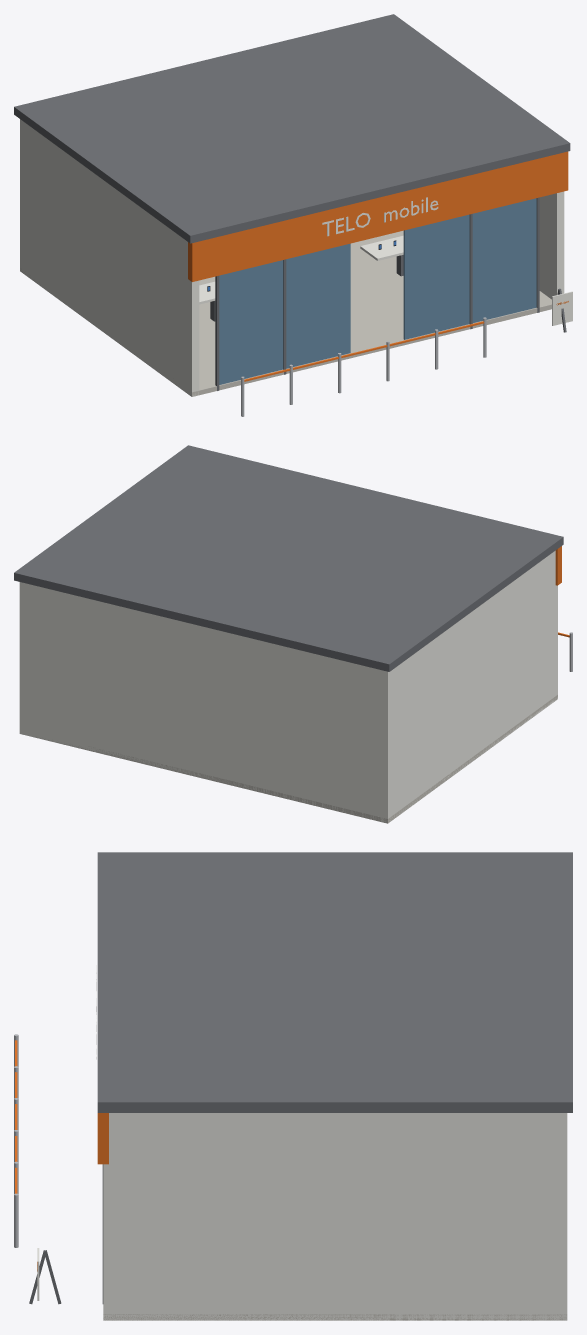
Rendered from shop.phone-shop.glb.
3 renders of one model, top to bottom at view 1: azimuth 30°, elevation 25°; view 2: azimuth 150°, elevation 25°; view 3: azimuth 270°, elevation 25°, orthographic. The views are drawn at different scales.
Visible parts, largest first — view 1: roof, side-1, fascia, floor, pane1.6, pane3.4, pane-3.4, pane-1.6, side1, table1, fascia-text, aboard-face (+1 smaller); view 2: roof, back, side-1, floor; view 3: roof, side1, back, floor, fascia.
Boxes of the visible parts, x1,y1,x2,y2 form: roof: (14, 14, 570, 243); side-1: (20, 119, 199, 396); fascia: (188, 151, 568, 281); floor: (21, 230, 551, 396); pane1.6: (403, 214, 469, 339); pane3.4: (472, 198, 536, 322); pane-3.4: (219, 260, 283, 384); pane-1.6: (286, 243, 350, 368); side1: (539, 191, 564, 299); table1: (360, 235, 403, 260); fascia-text: (322, 197, 438, 236); aboard-face: (552, 291, 572, 325); roof: (14, 445, 563, 671); back: (19, 582, 391, 822); side-1: (380, 550, 557, 823); floor: (36, 695, 557, 823); roof: (97, 852, 572, 1112); side1: (103, 1113, 567, 1320); back: (555, 1113, 567, 1320); floor: (103, 1314, 567, 1320); fascia: (97, 1113, 108, 1164).
Size of the model in its own units: 10.2 by 4.21 by 9.64.
